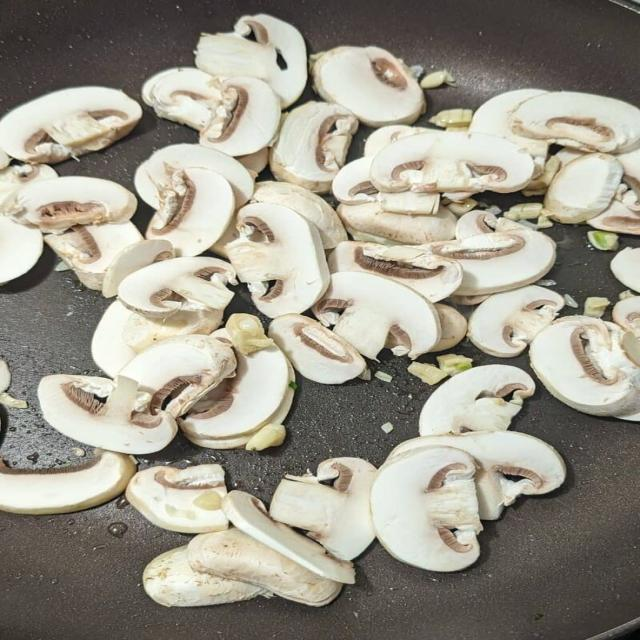champignon mushrooms: (388, 431, 566, 520), (371, 446, 481, 571), (222, 490, 354, 583), (187, 529, 342, 606), (142, 68, 279, 155), (226, 203, 329, 317), (180, 344, 291, 448), (313, 272, 440, 359), (38, 375, 177, 453), (270, 458, 376, 560), (530, 316, 639, 415), (0, 87, 141, 163), (420, 219, 555, 295), (196, 14, 306, 107), (371, 132, 533, 193), (92, 301, 222, 377), (180, 364, 294, 449), (120, 336, 235, 417), (311, 47, 426, 126), (0, 451, 136, 514), (146, 165, 235, 256), (328, 242, 462, 302), (270, 102, 358, 193), (420, 365, 534, 435), (134, 144, 253, 211), (0, 176, 137, 233), (511, 92, 639, 153), (143, 545, 267, 606), (118, 257, 235, 318), (126, 464, 227, 533), (268, 314, 366, 384), (468, 286, 564, 357), (45, 222, 142, 290), (469, 89, 549, 171), (252, 181, 346, 249), (200, 77, 280, 155), (332, 157, 439, 215), (544, 154, 622, 223), (337, 203, 456, 245), (141, 67, 219, 131), (102, 240, 174, 297), (0, 216, 43, 284), (363, 125, 440, 156), (0, 165, 57, 199), (587, 199, 639, 235), (431, 304, 467, 352), (617, 149, 639, 211), (610, 247, 639, 292), (456, 210, 497, 240), (612, 296, 640, 336), (237, 147, 269, 178), (450, 294, 490, 306), (0, 360, 11, 393), (0, 149, 11, 170)
